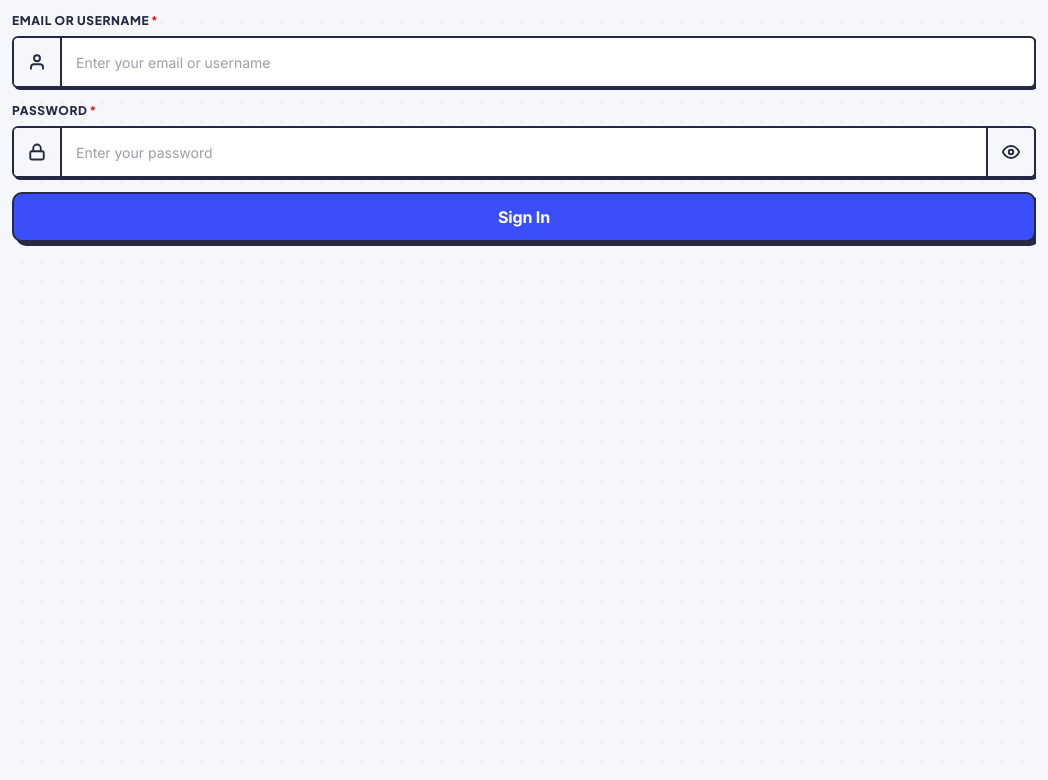
SigninForm Component › displays rate-limit error on 429 response
This screenshot has width=1048, height=780.
Step 1. Type "ayush@example.com" into the field labelled "Email or Username*" → (548,62), box [62,38,1034,86]
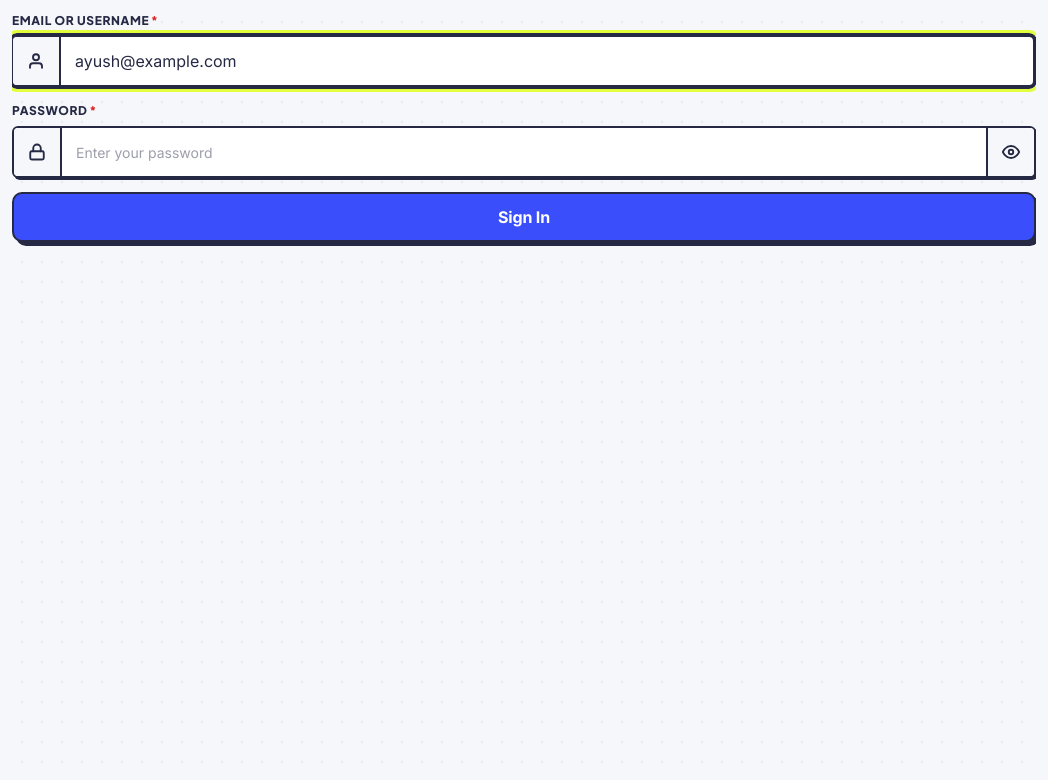
Step 2. Type "AnyPass123!" into the password field labelled "Password*" → (548,152), box [62,128,1034,176]
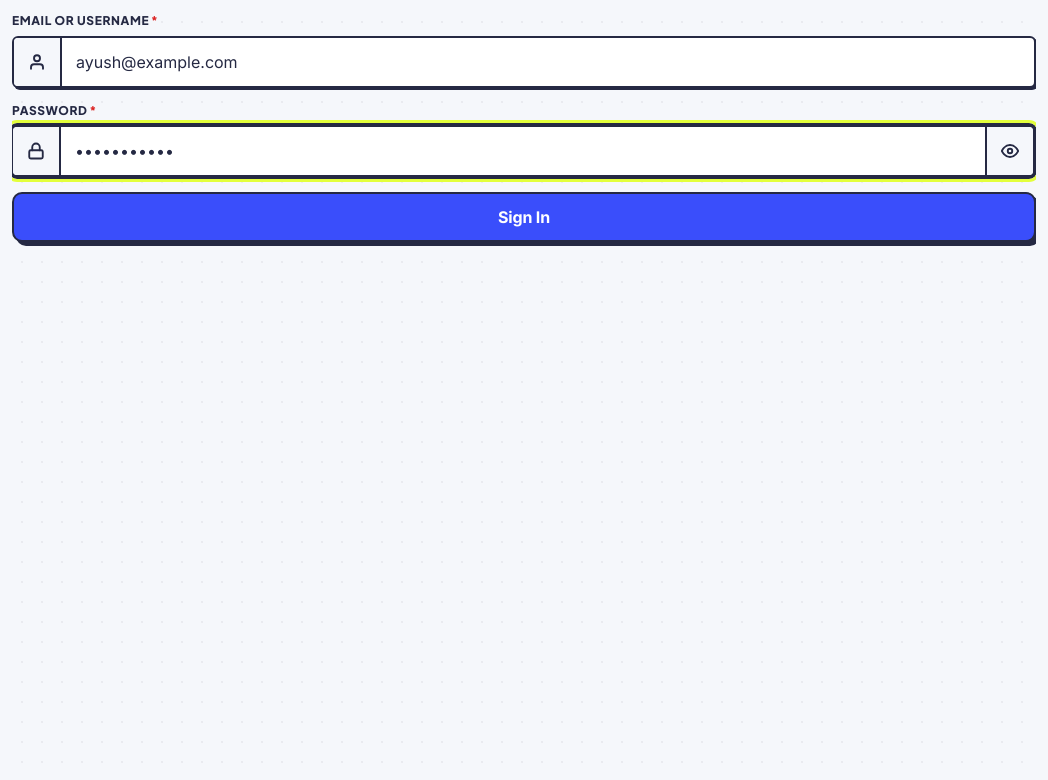
Step 3. Click the button "Sign In" → (524,217), box [12,192,1036,242]
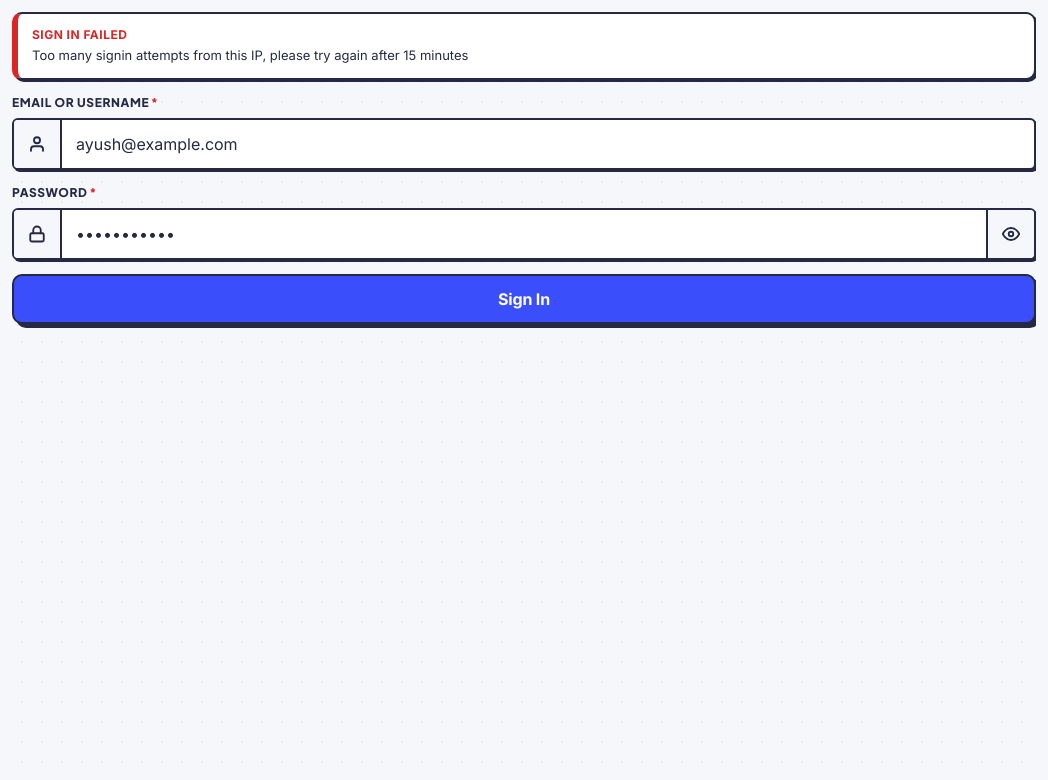
Now the text "Too many signin attempts from this IP" is shown, box [32,47,468,63]
